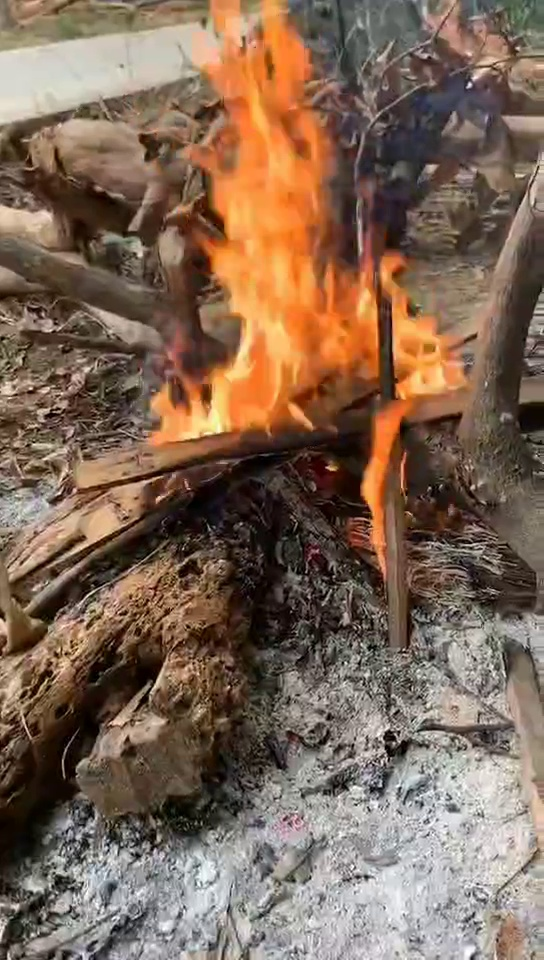fire: (193, 43, 435, 440)
